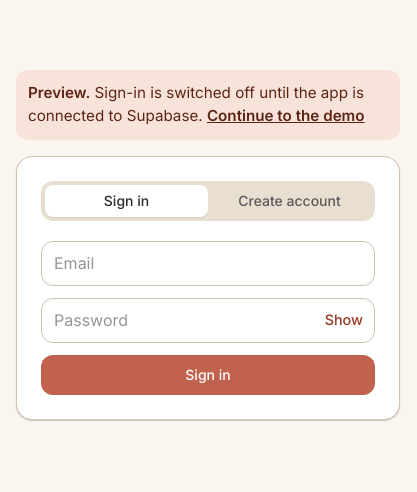
SignInPage › in demo mode shows the screen as a preview and creates nothing
The image size is (417, 492).
Expected: the 1st button "Sign in" is shown, [45, 185, 208, 217]
Expected: the element that starts with "Preview." is shown, [28, 83, 90, 102]
Type "a@b.co" into the field labelled "Email" at (208, 263), box [41, 241, 375, 286]
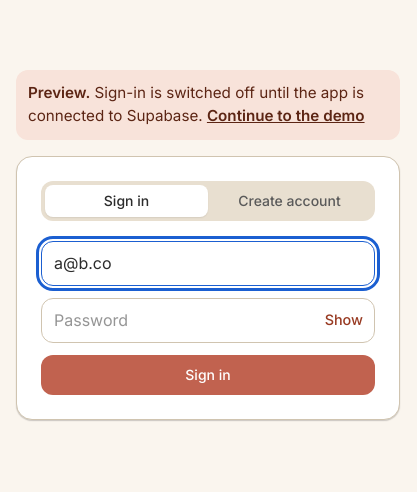
Type "whatever-123" into the password field labelled "Password" at (208, 320), box [41, 298, 375, 343]
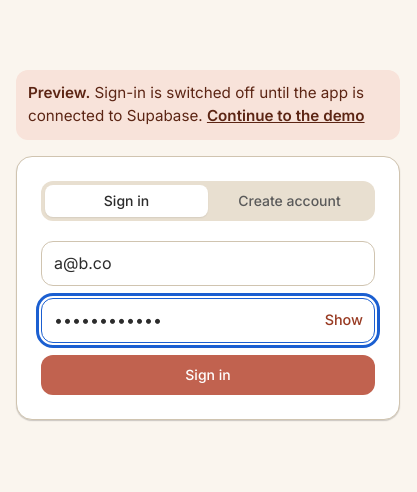
Click the submit button at (208, 375), box [41, 355, 375, 395]
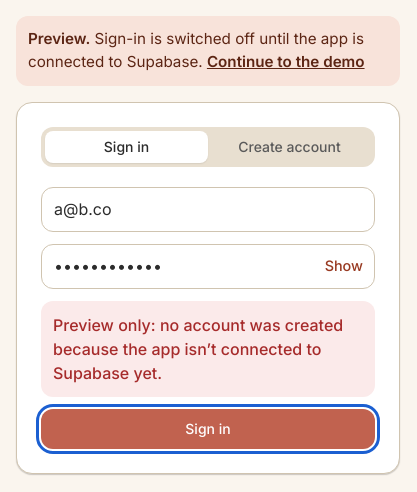
Expected: the message shows "Preview only", [53, 315, 343, 383]
